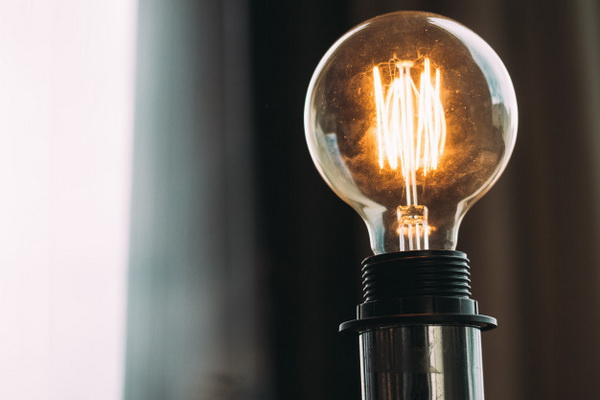Light_bulb: (289, 6, 533, 268)
